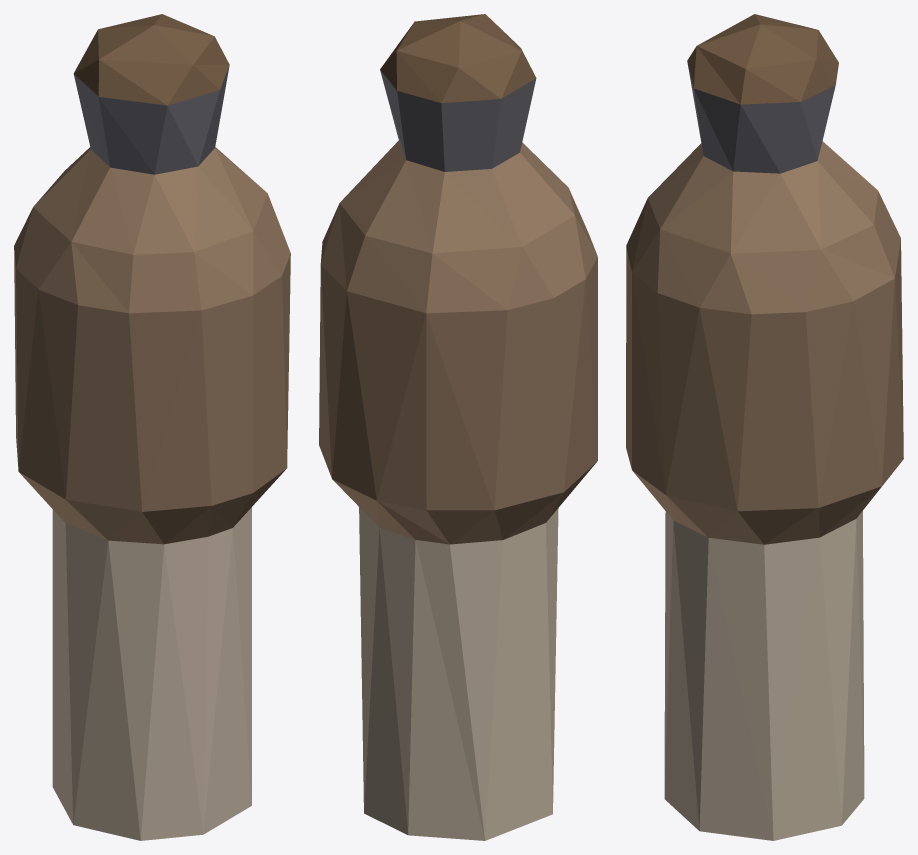
Rendered from spectator.glb.
The picture shows the model from 3 angles, left to right: view 1: azimuth 30°, elevation 25°; view 2: azimuth 150°, elevation 25°; view 3: azimuth 270°, elevation 25°; orthographic projection.
Visible parts, largest first — view 1: SpectatorLOD; view 2: SpectatorLOD; view 3: SpectatorLOD.
Part boxes in pixels (bbox=[...]): SpectatorLOD: bbox=[14, 14, 290, 840]; SpectatorLOD: bbox=[319, 14, 597, 840]; SpectatorLOD: bbox=[626, 14, 903, 840].
Size of the model in its own units: 0.5255 by 1.62 by 0.5265.
